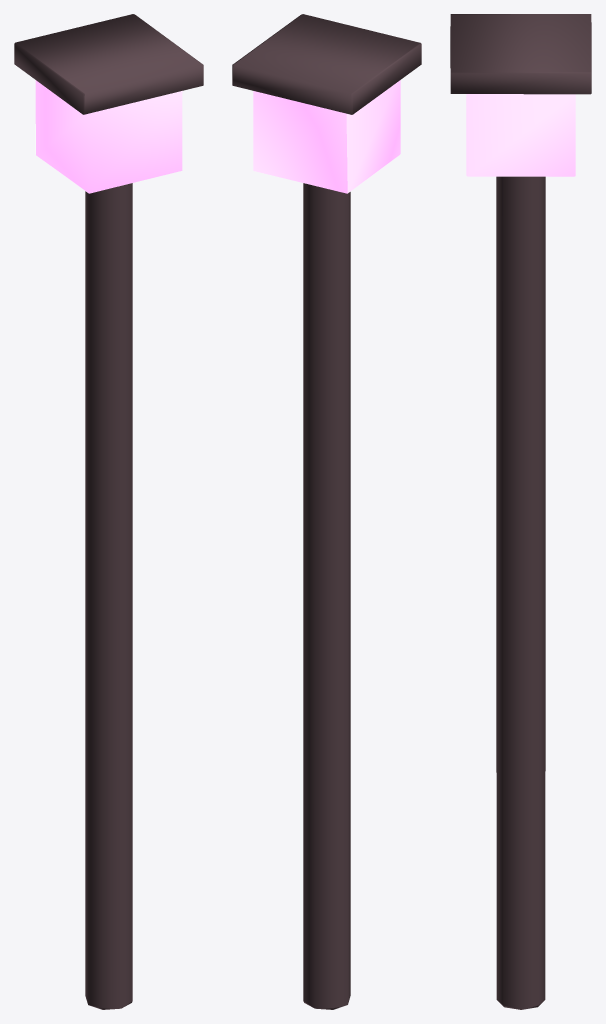
Rendered from SM_Neroberg_Lamp_LOD2.fbx.
3 renders of one model, left to right at view 1: azimuth 30°, elevation 25°; view 2: azimuth 150°, elevation 25°; view 3: azimuth 270°, elevation 25°, orthographic.
Visible parts, largest first — view 1: SM_Neroberg_Lamp_LOD2; view 2: SM_Neroberg_Lamp_LOD2; view 3: SM_Neroberg_Lamp_LOD2.
Part boxes in pixels (bbox=[...]): SM_Neroberg_Lamp_LOD2: bbox=[14, 14, 203, 1009]; SM_Neroberg_Lamp_LOD2: bbox=[232, 14, 421, 1009]; SM_Neroberg_Lamp_LOD2: bbox=[450, 14, 591, 1009].
Size of the model in its own units: 0.4457 by 3.34 by 0.4457.
